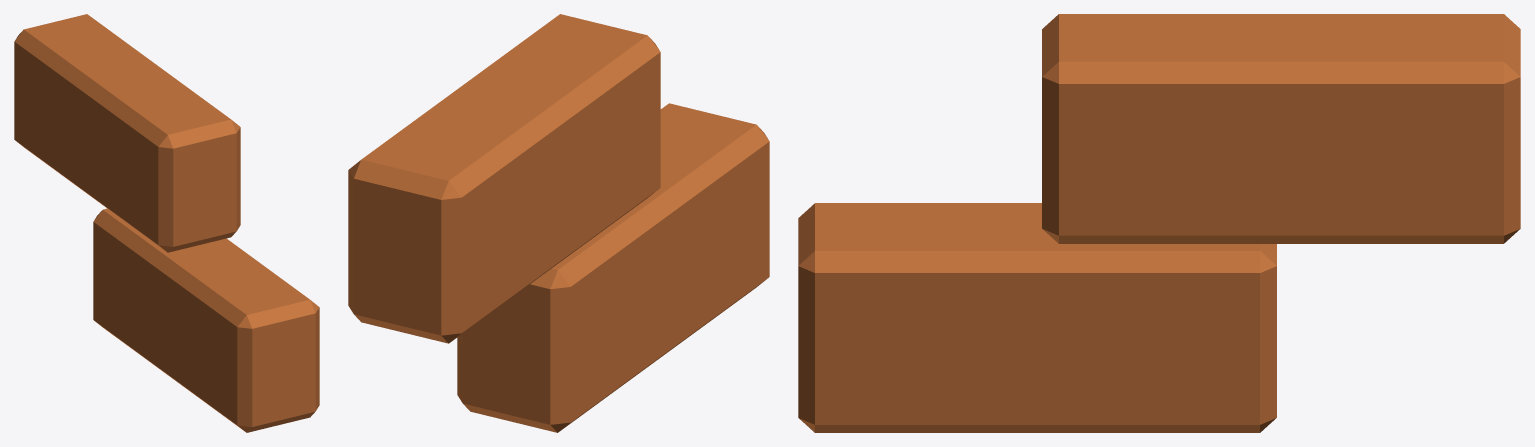
The model's file is brickDouble.fbx.
The picture shows the model from 3 angles, left to right: view 1: azimuth 30°, elevation 25°; view 2: azimuth 150°, elevation 25°; view 3: azimuth 270°, elevation 25°; orthographic projection. The views are drawn at different scales.
Parts seen in each view (by area): view 1: Brick - Double; view 2: Brick - Double; view 3: Brick - Double.
Part boxes in pixels (x1,y1,x2,y2): Brick - Double: (14, 14, 319, 432); Brick - Double: (348, 14, 769, 432); Brick - Double: (798, 14, 1520, 432).
Bounding box in the file's own units: 24.1 × 119 × 67.38.
